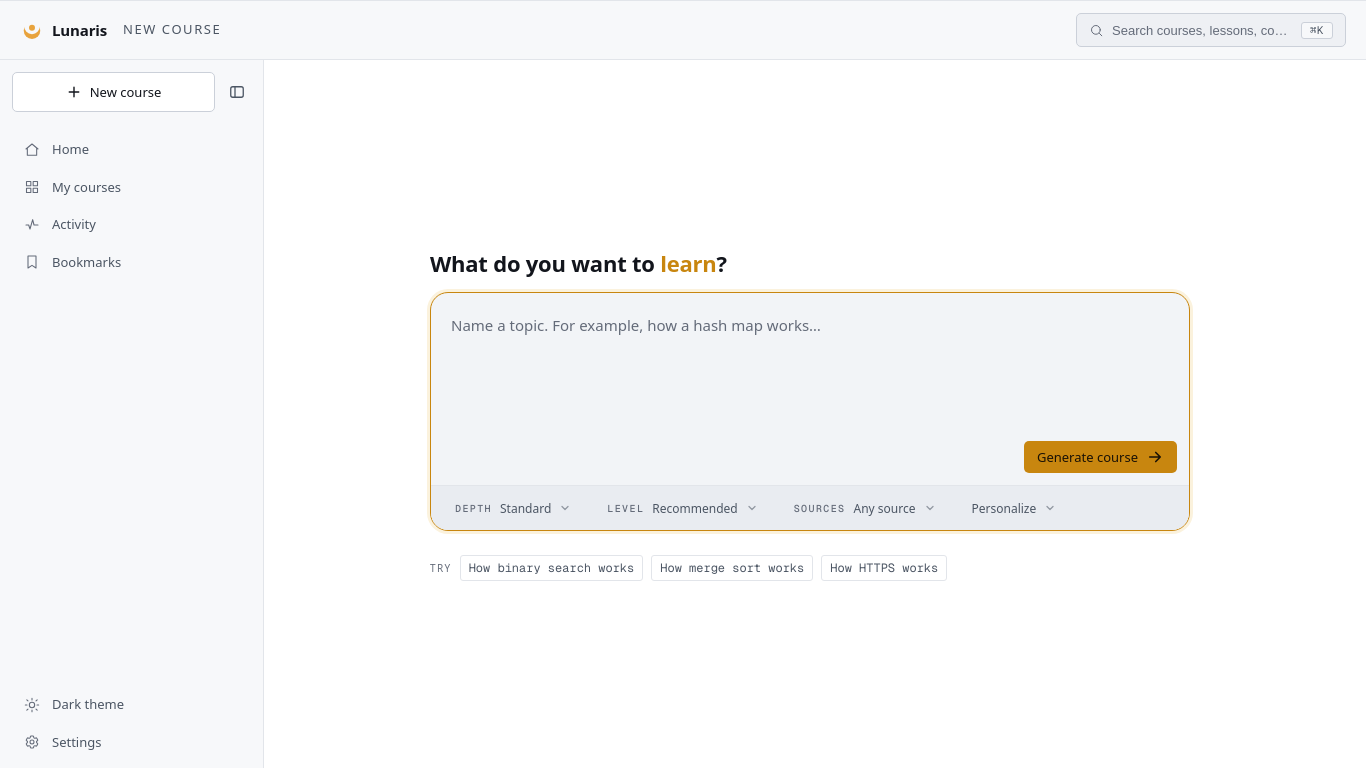
it: App — URL routing (live studio) › a finished build hands the URL off to its course
Type "binary search" into the text box labelled "topic".
click(810, 367); type("binary search")  # box [431,293,1189,441]
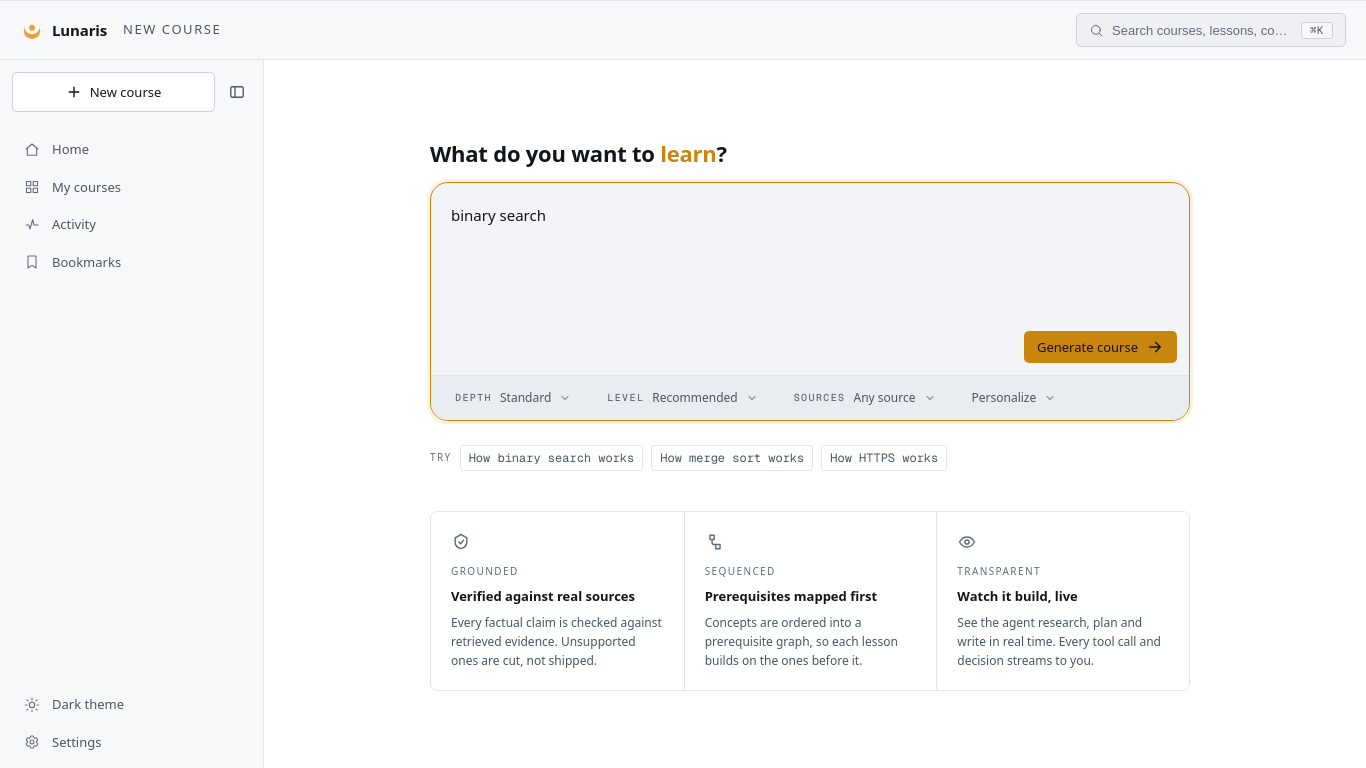
Click the button "Generate course".
click(1100, 347)  # box [1024,331,1177,363]
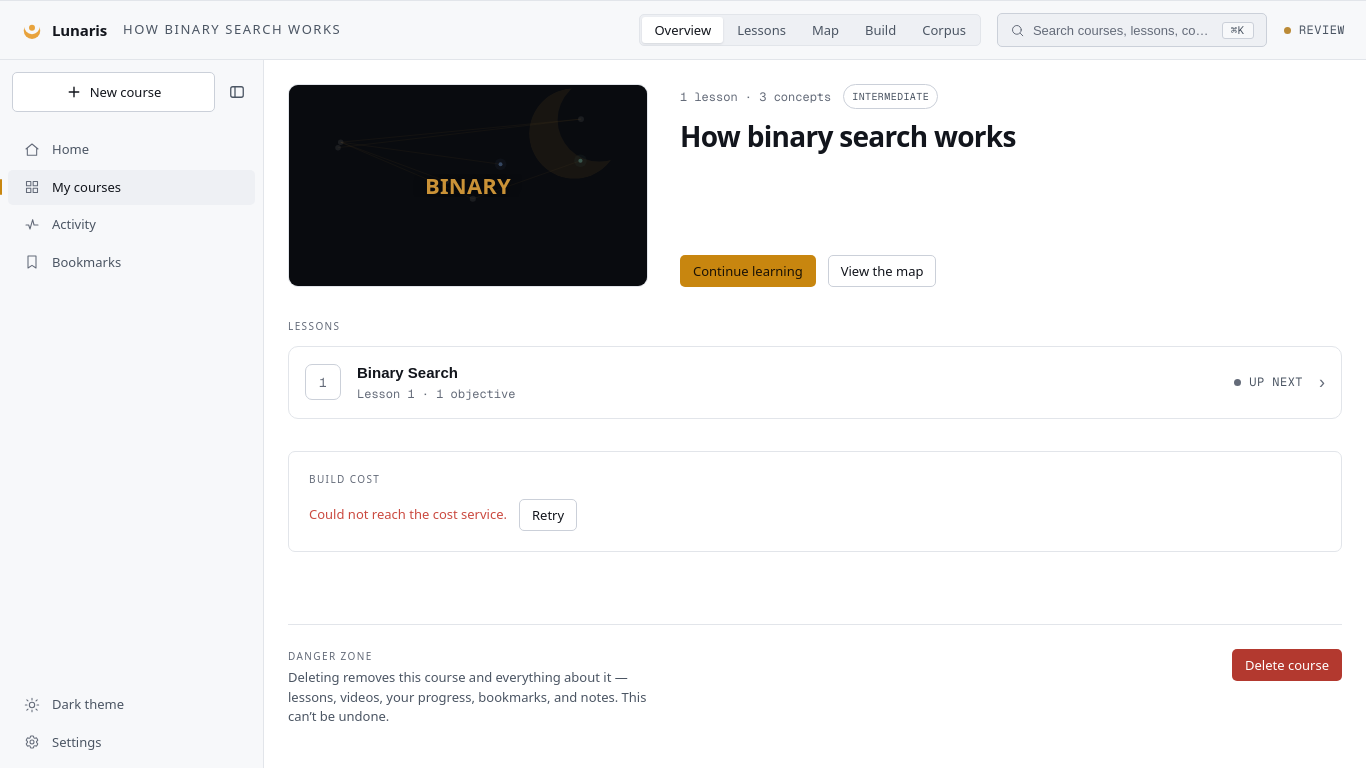
Expected: the heading "How binary search works" next to "Lunaris" is shown, [123,20,341,38]
